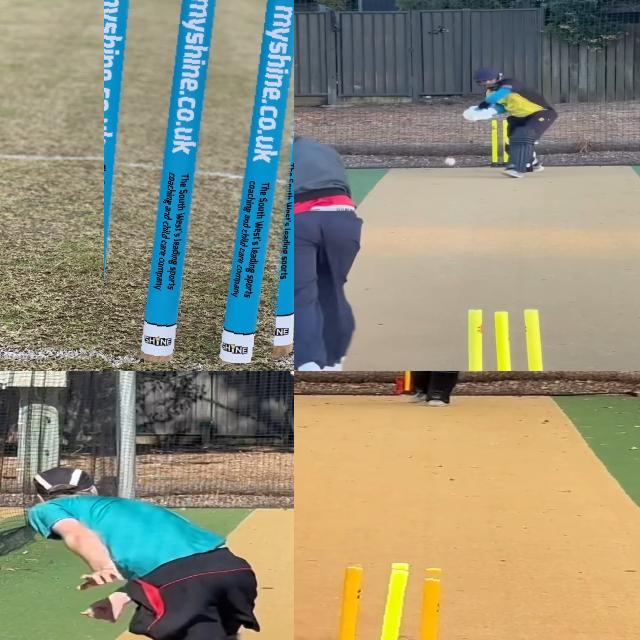Cricket ball: (444, 156, 458, 166)
Stumps: (103, 0, 294, 363), (332, 562, 458, 640), (456, 309, 562, 371)
